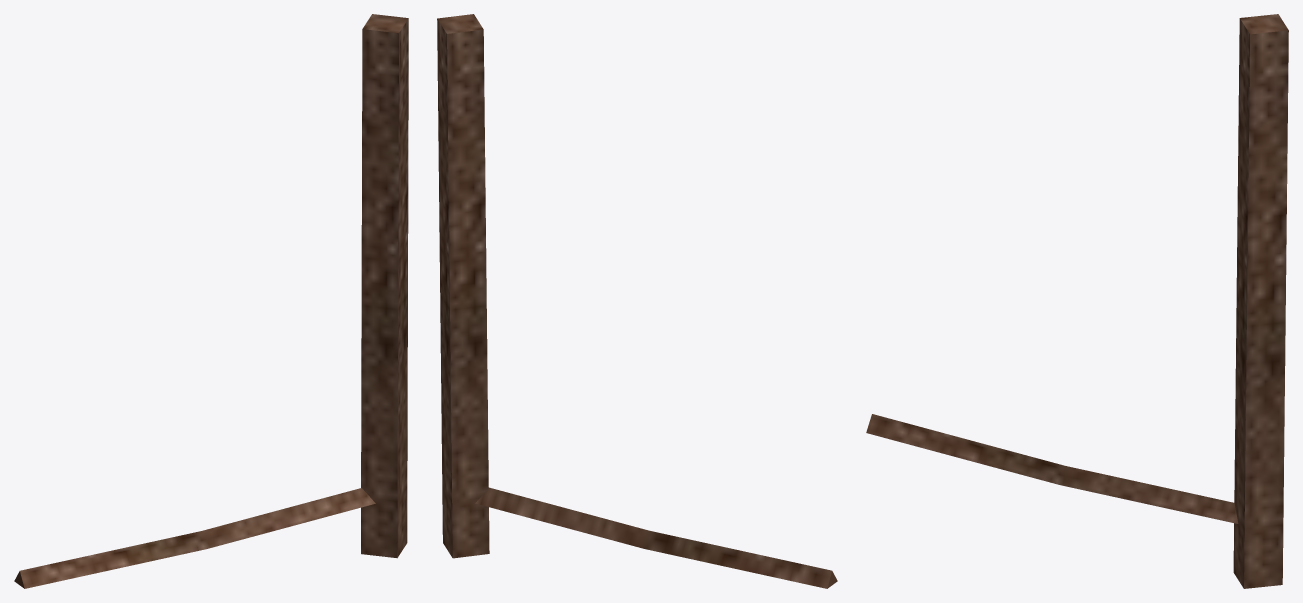
The model's file is woven-fence.glb.
3 renders of one model, left to right at view 1: azimuth 30°, elevation 25°; view 2: azimuth 150°, elevation 25°; view 3: azimuth 330°, elevation 25°, orthographic. The views are drawn at different scales.
Visible parts, largest first — view 1: fence-post-gate, fence-rail; view 2: fence-post-gate, fence-rail; view 3: fence-post-gate, fence-rail.
Part boxes in pixels (left/top/right/bottom): fence-post-gate: left=361, top=14, right=408, bottom=558; fence-rail: left=14, top=488, right=375, bottom=588; fence-post-gate: left=437, top=14, right=489, bottom=558; fence-rail: left=475, top=487, right=837, bottom=588; fence-post-gate: left=1233, top=14, right=1288, bottom=588; fence-rail: left=866, top=414, right=1238, bottom=523.
Bounding box in the file's own units: 1.07 × 1.37 × 0.1373.
1 material, 1 textured.
